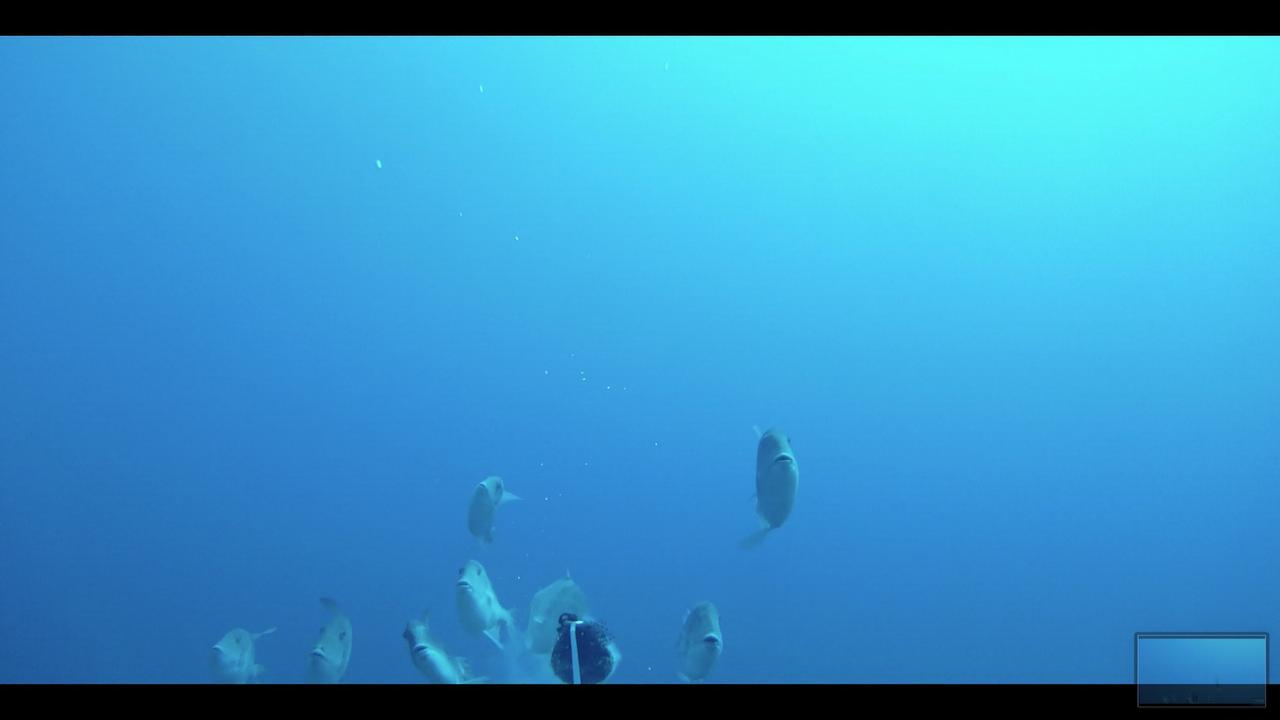balistes: (731, 421, 801, 554), (443, 556, 525, 650), (192, 611, 279, 683), (301, 587, 367, 681), (394, 608, 477, 679), (664, 595, 728, 685), (465, 472, 525, 547)
